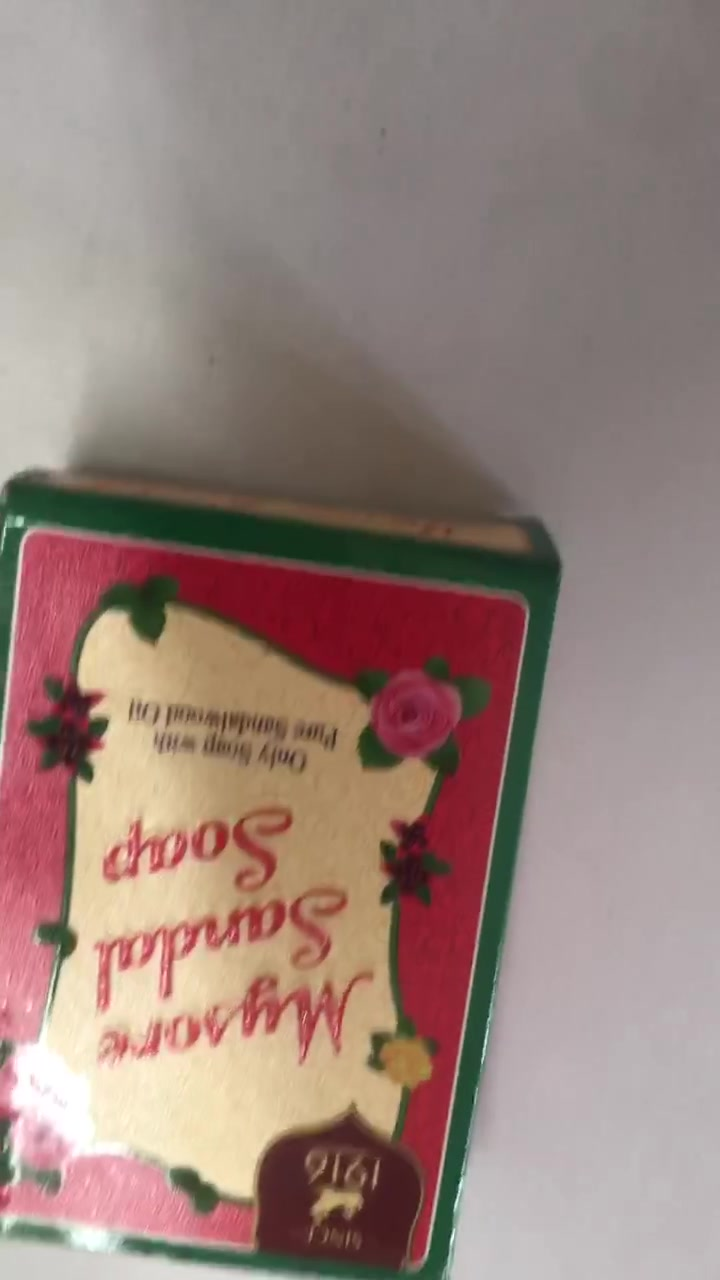mysore sandal soap: (8, 470, 558, 1280)
